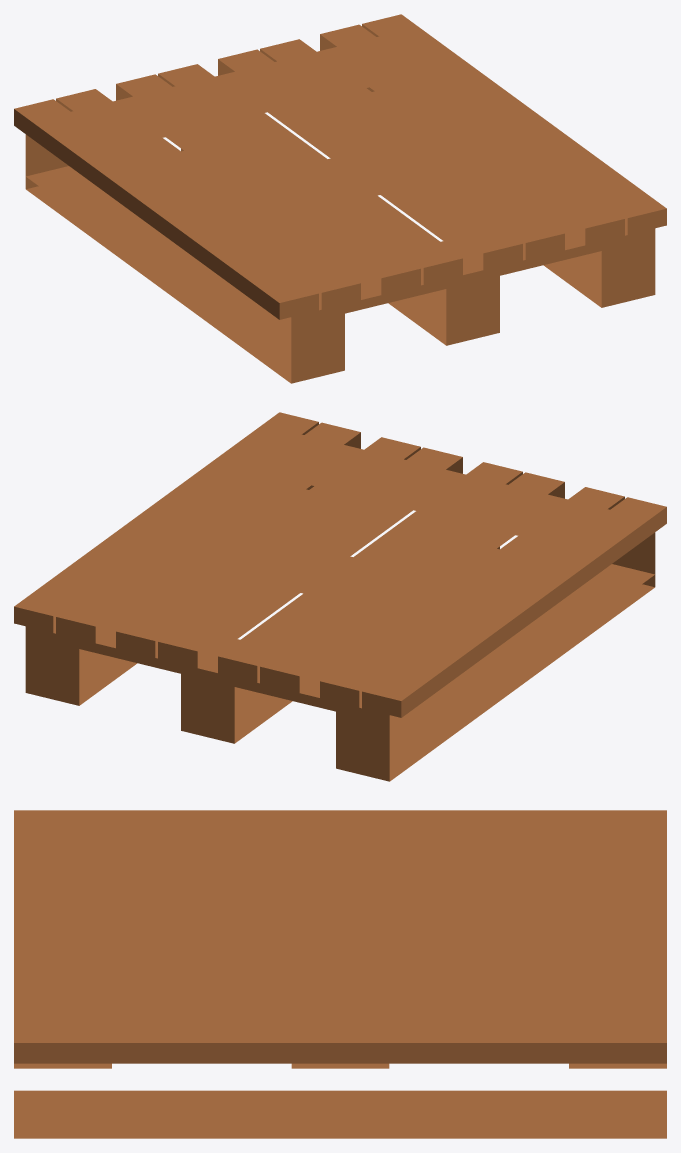
The model's file is prop.pallet.lod1.glb.
The picture shows the model from 3 angles, top to bottom: view 1: azimuth 30°, elevation 25°; view 2: azimuth 150°, elevation 25°; view 3: azimuth 270°, elevation 25°; orthographic projection. The views are drawn at different scales.
Parts seen in each view (by area): view 1: body; view 2: body; view 3: body.
Part boxes in pixels (<box>): body: <box>14,14,666,383</box>; body: <box>14,412,666,781</box>; body: <box>14,810,666,1138</box>.
Bounding box in the file's own units: 1.01 × 0.208 × 1.2.
